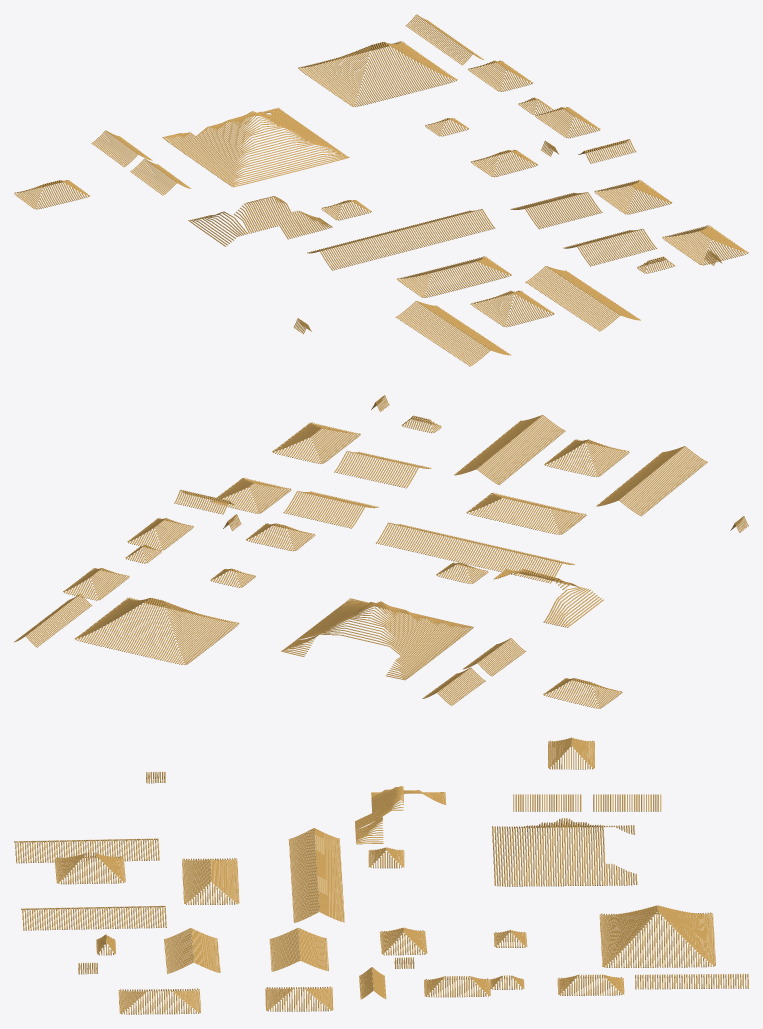
Rendered from roof-tiles-1-9.glb.
The picture shows the model from 3 angles, top to bottom: view 1: azimuth 30°, elevation 25°; view 2: azimuth 150°, elevation 25°; view 3: azimuth 270°, elevation 25°; orthographic projection. The views are drawn at different scales.
Parts seen in each view (by area): view 1: roof-tiles-1-9_micro_Roof_Glazed_Ochre; view 2: roof-tiles-1-9_micro_Roof_Glazed_Ochre; view 3: roof-tiles-1-9_micro_Roof_Glazed_Ochre.
Boxes of the visible parts, x1,y1,x2,y2 form: roof-tiles-1-9_micro_Roof_Glazed_Ochre: (14, 14, 748, 366); roof-tiles-1-9_micro_Roof_Glazed_Ochre: (14, 395, 748, 708); roof-tiles-1-9_micro_Roof_Glazed_Ochre: (14, 737, 748, 1014).
Size of the model in its own units: 0.999 by 0.099 by 1.2.
